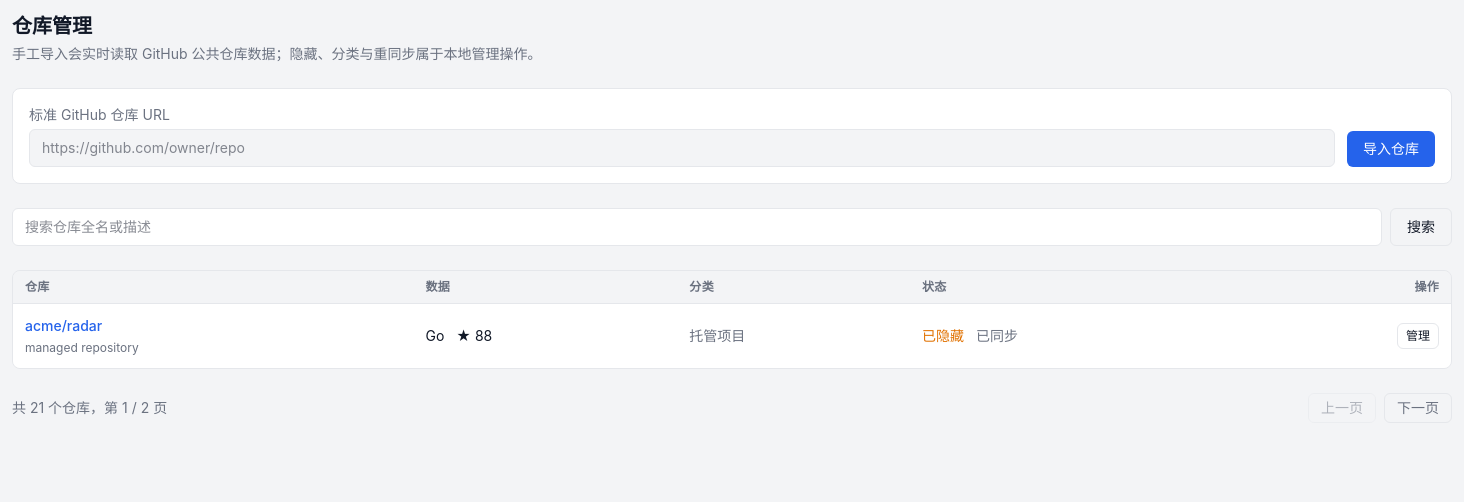
Test: AdminRepositoriesPage › returns to page one after creating a repository from a later page
This screenshot has width=1464, height=502.
Click the button with test id "next-page" at (1418, 408), box [1384, 393, 1452, 423]
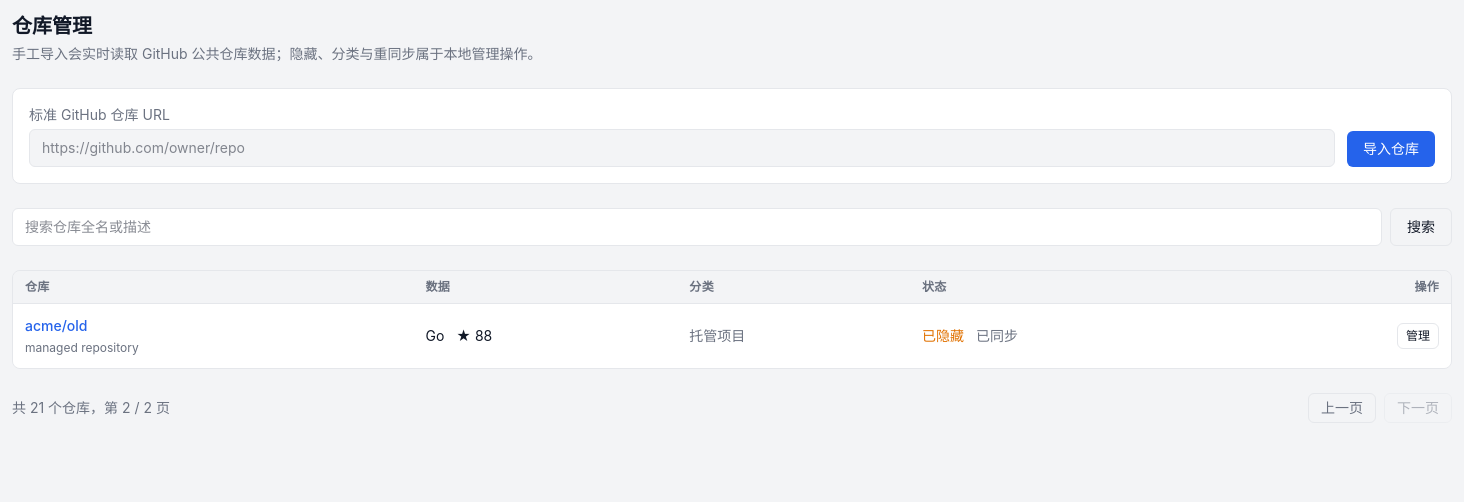
Expected: the text "acme/old" is shown, [25, 317, 88, 334]
Type "https://github.com/acme/new" into the field with test id "import-url" at (682, 148), box [29, 129, 1335, 167]
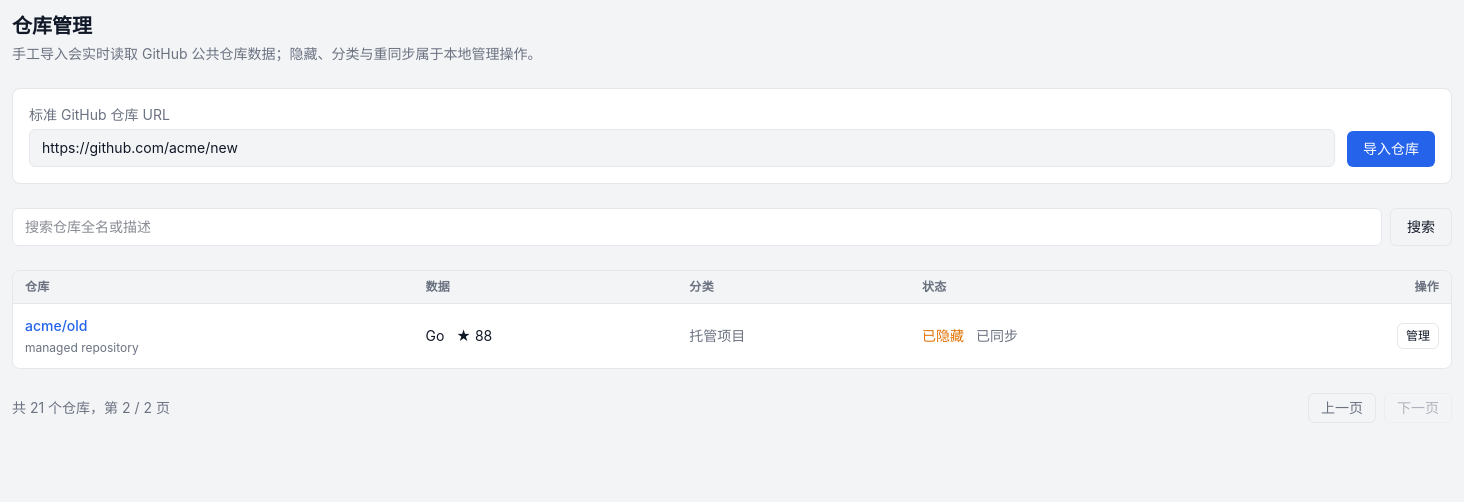
Submit the form with test id "import-form", box [12, 88, 1452, 184]
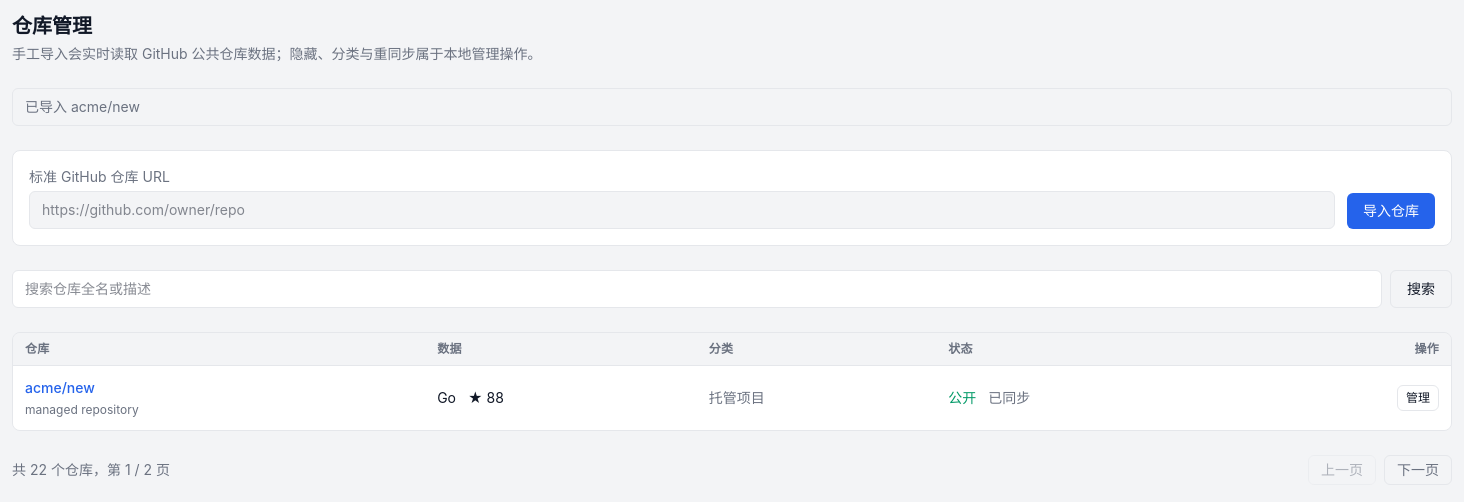
Expected: the row with test id "repo-row-30" is shown, [13, 366, 1451, 430]
Expected: the text "第 1 / 2 页" is shown, [12, 461, 170, 478]
